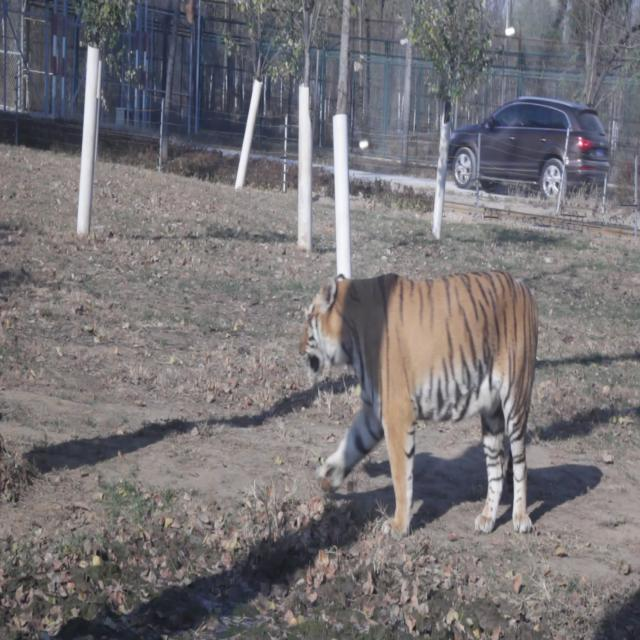Tiger: (278, 253, 584, 560)
